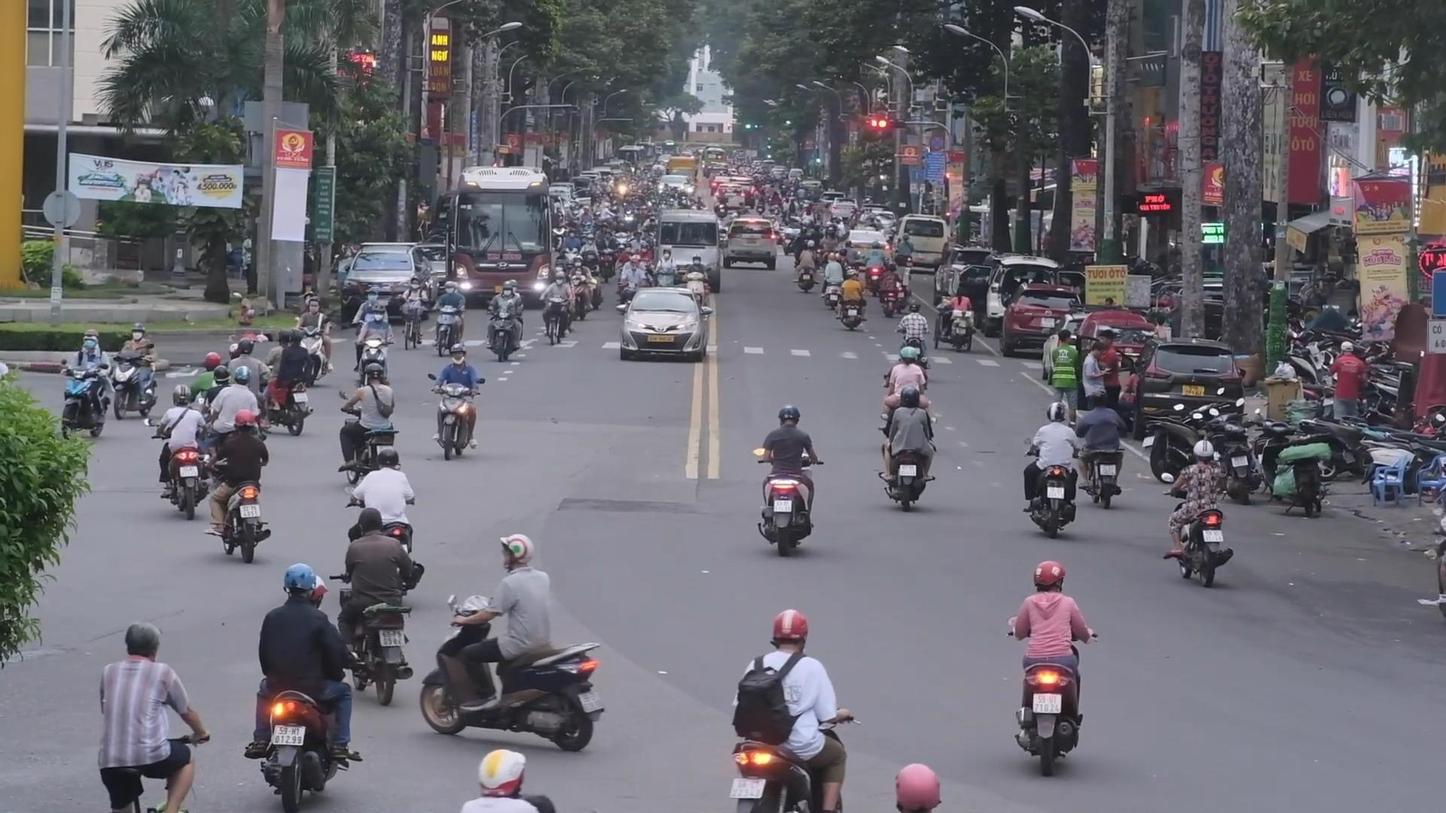bicyclist: (100, 621, 211, 813), (395, 275, 429, 351)
driver: (419, 533, 605, 753), (243, 562, 368, 813), (729, 608, 862, 813), (1006, 560, 1098, 777), (328, 508, 415, 707), (196, 410, 271, 563), (1161, 440, 1234, 588), (757, 405, 825, 557), (143, 384, 210, 521), (1023, 402, 1080, 539), (877, 385, 936, 512), (338, 363, 399, 485), (427, 343, 486, 460), (1074, 389, 1127, 509), (60, 329, 116, 440), (264, 329, 314, 437), (112, 323, 159, 421), (289, 290, 333, 387), (354, 303, 396, 386), (485, 279, 523, 362), (430, 281, 465, 357), (539, 270, 574, 345), (835, 269, 867, 330), (682, 253, 711, 306), (792, 239, 820, 293), (820, 252, 844, 309)
helmet: (894, 764, 942, 813), (479, 749, 526, 797), (770, 608, 807, 652), (500, 533, 535, 573), (283, 562, 316, 600), (1034, 560, 1066, 593), (313, 574, 329, 610), (1192, 439, 1214, 465), (234, 409, 255, 434), (377, 448, 400, 470), (778, 405, 800, 427), (173, 384, 192, 406), (1047, 402, 1067, 422), (213, 365, 232, 385), (1091, 389, 1111, 408), (364, 363, 384, 382), (902, 387, 920, 408), (82, 328, 99, 350), (234, 365, 252, 385), (204, 351, 221, 372), (900, 346, 917, 366), (450, 344, 466, 365), (131, 323, 146, 342), (238, 338, 254, 355)
no-helmet: (126, 621, 164, 662), (357, 508, 383, 536)
